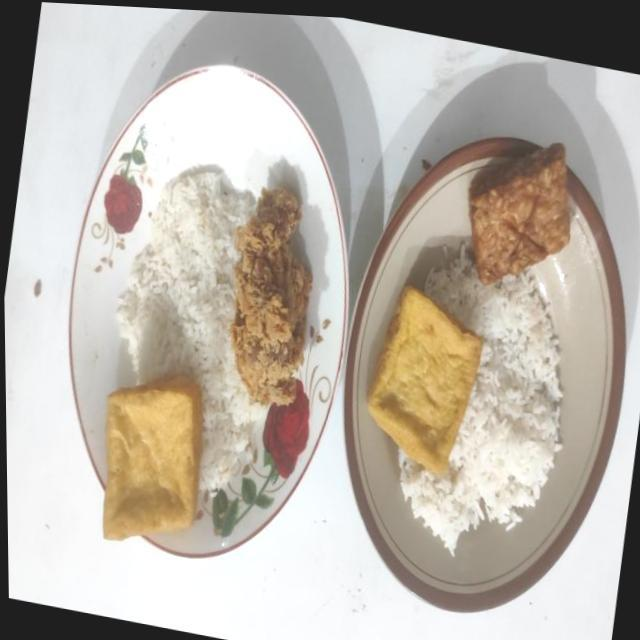nasi_putih: (400, 245, 562, 553), (116, 169, 266, 492)
tahu_goreng: (367, 286, 483, 474), (103, 376, 203, 540)
tempe_goreng: (468, 143, 570, 284)
